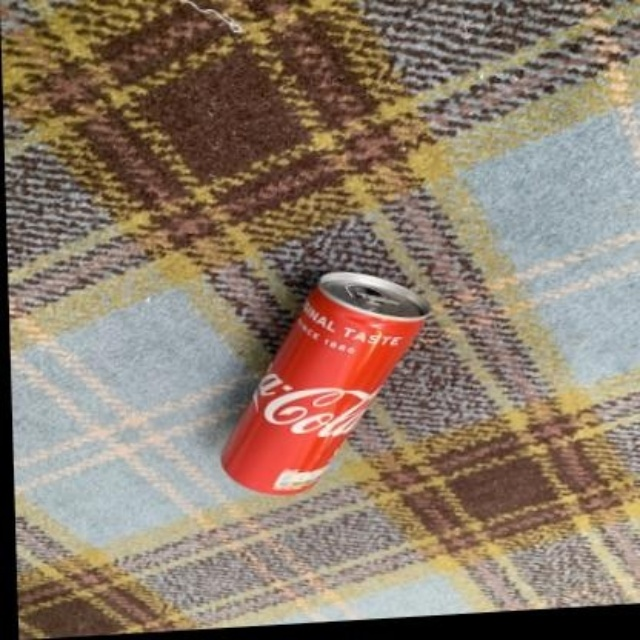trash: (222, 272, 428, 492)
